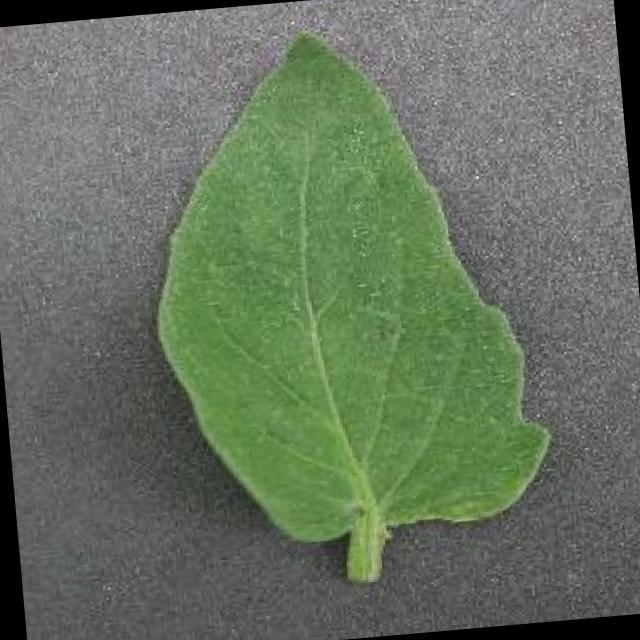Tomato_Healthy: (111, 0, 580, 585)
